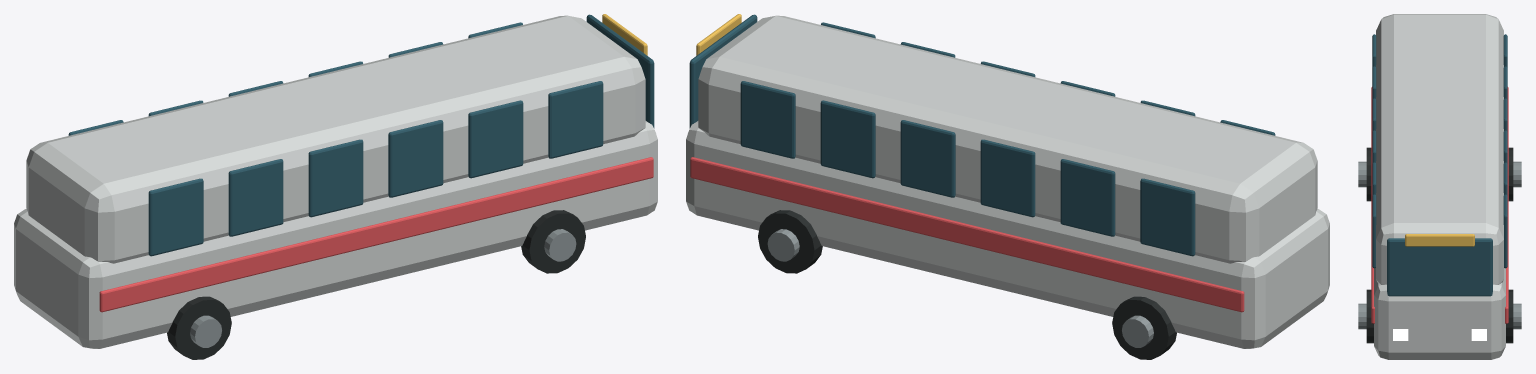
The model's file is transport-city-bus.glb.
3 renders of one model, left to right at view 1: azimuth 30°, elevation 25°; view 2: azimuth 150°, elevation 25°; view 3: azimuth 270°, elevation 25°, orthographic. The views are drawn at different scales.
Visible parts, largest first — view 1: CityBus; view 2: CityBus; view 3: CityBus.
Part boxes in pixels (left/top/right/bottom): CityBus: left=14, top=14, right=657, bottom=359; CityBus: left=686, top=14, right=1329, bottom=359; CityBus: left=1358, top=14, right=1521, bottom=359.
Size of the model in its own units: 10.68 by 3.23 by 3.16.
